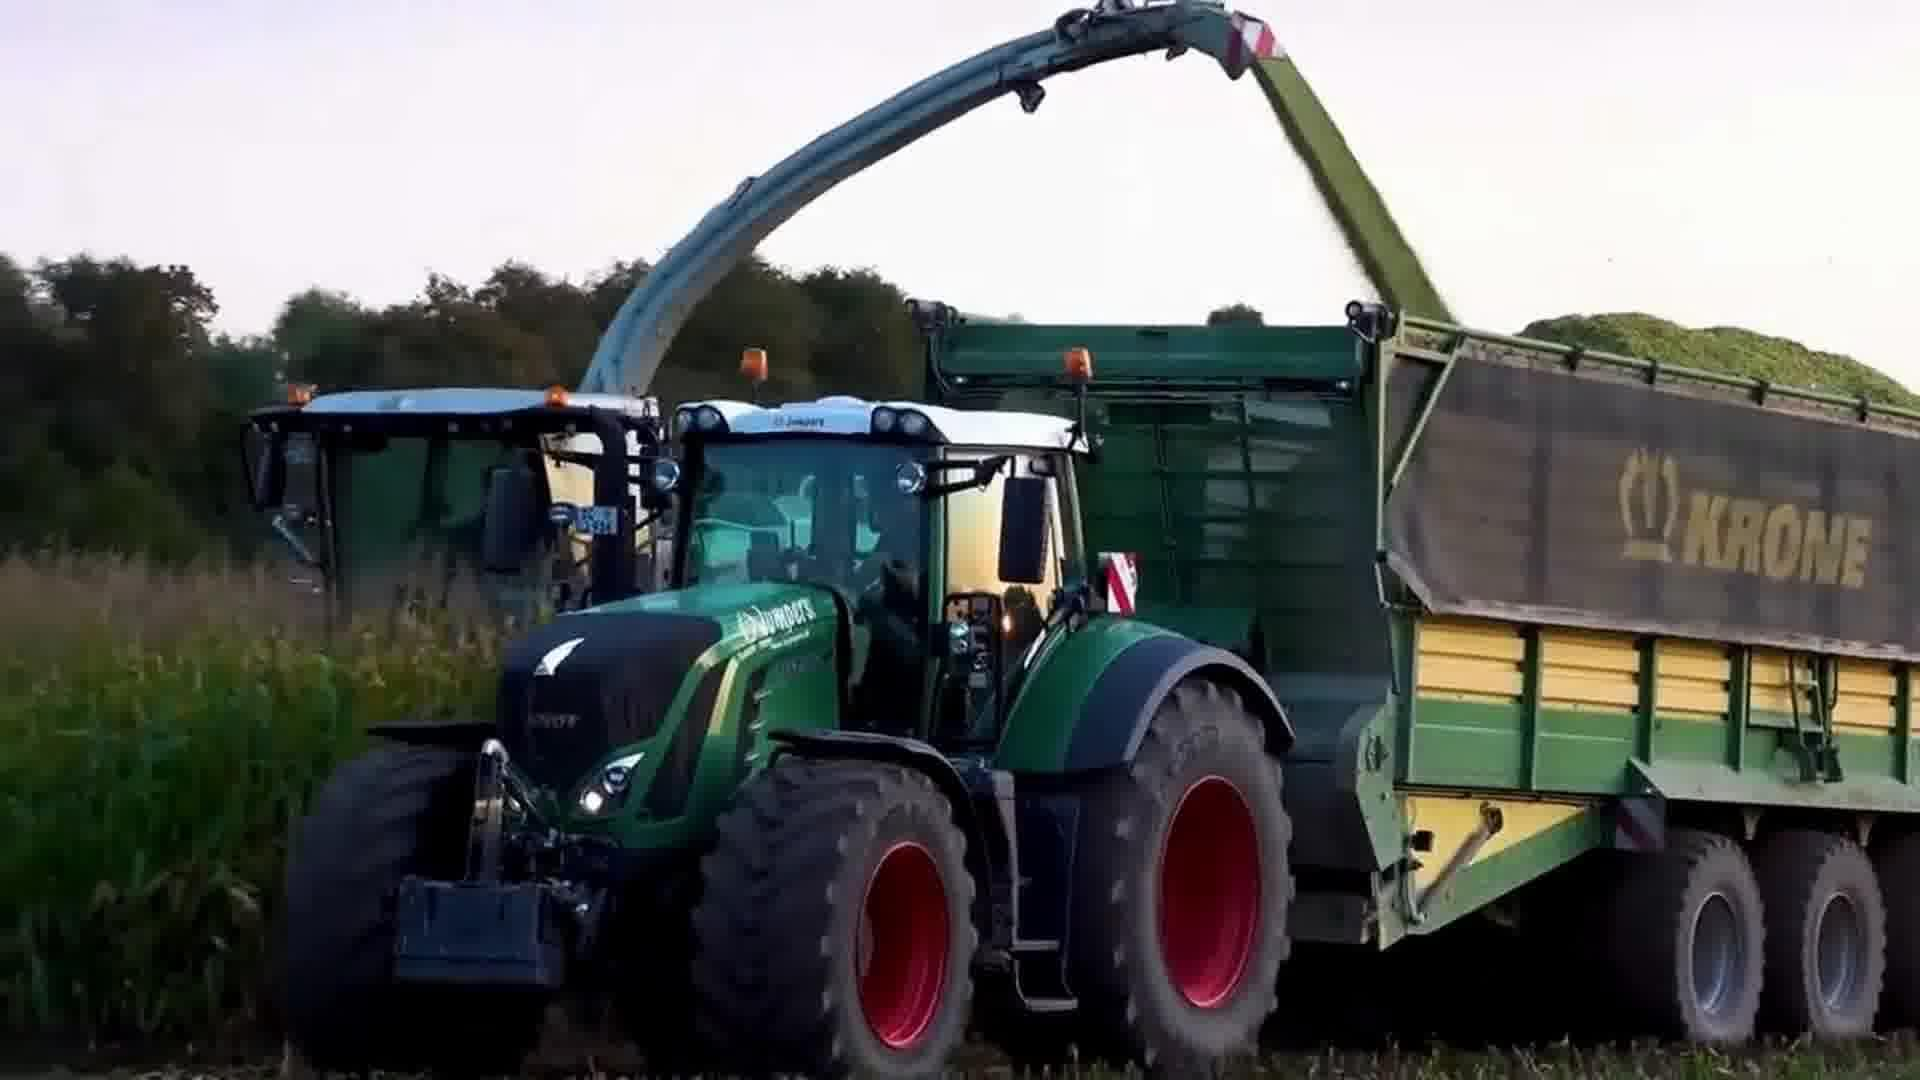combine harvester: (232, 0, 1295, 662)
tractor: (266, 347, 1300, 1079)
trailer: (898, 284, 1920, 1058)
